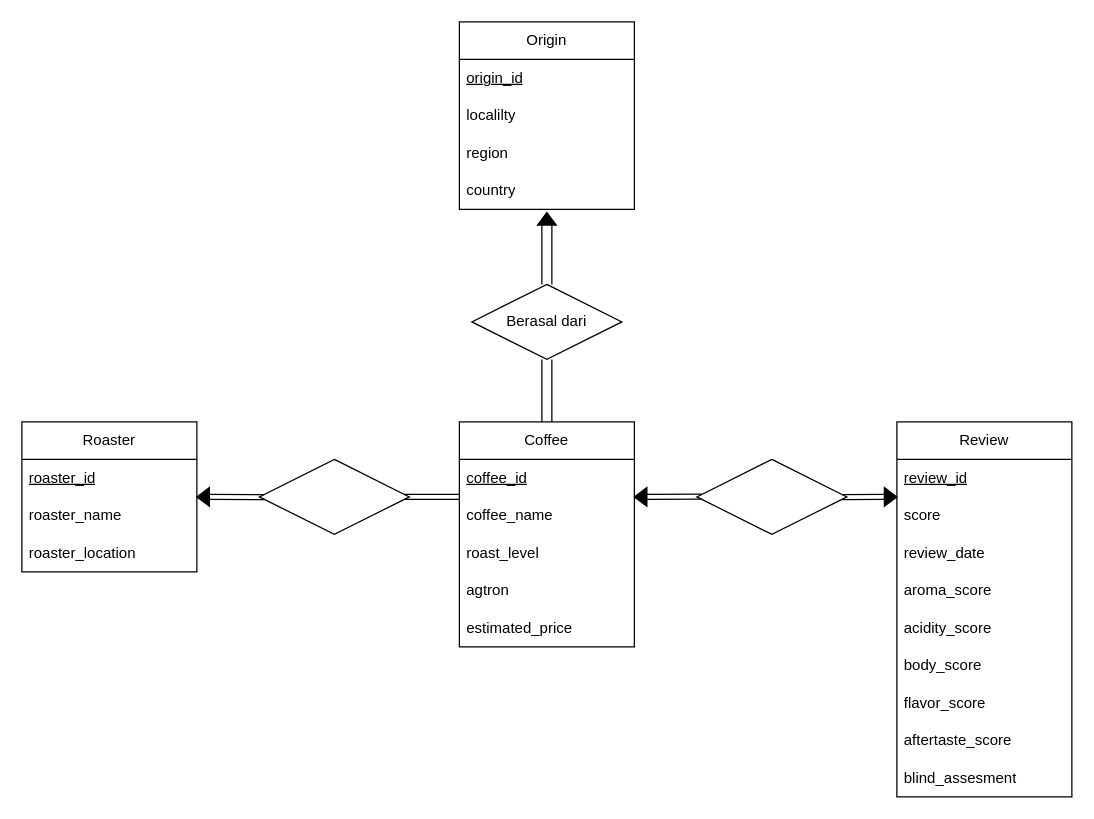
Image size: 1094x819. Some labels were removed from this diagram. Here are the shapes that lost their labels. From the top down, the box of each, then its label:
(258, 458, 409, 534): Memanggang
(696, 458, 847, 534): Direview
